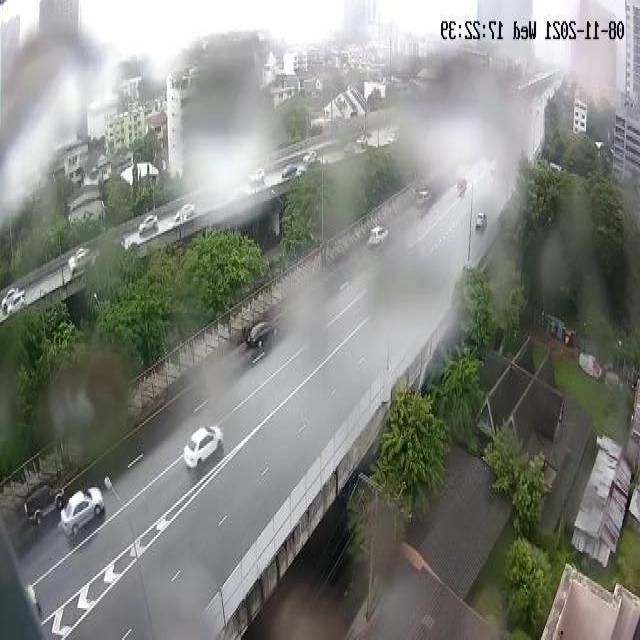Car: (61, 487, 103, 535), (24, 482, 66, 525), (184, 426, 223, 470), (247, 320, 279, 350), (7, 289, 27, 317), (138, 214, 159, 237), (369, 225, 388, 244), (281, 162, 298, 179), (474, 212, 488, 230)
